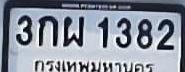1: (97, 16, 107, 47)
2: (156, 18, 173, 49)
3: (15, 14, 32, 44), (115, 17, 130, 47)
8: (136, 18, 151, 48)
A01: (38, 15, 57, 46)
A28: (62, 15, 83, 46)
BKK: (32, 57, 155, 72)
